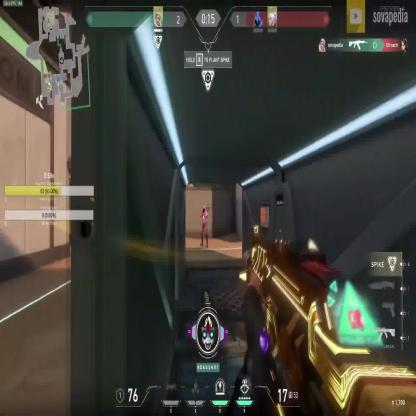enemy: (199, 203, 209, 249)
enemy_head: (202, 206, 206, 215)
